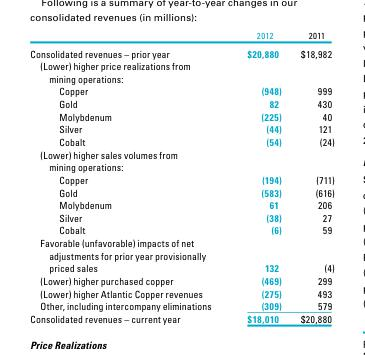table: (29, 28, 333, 323)
table column: (29, 28, 228, 323), (228, 28, 290, 323), (290, 28, 333, 323)
table column header: (29, 28, 333, 43)
table projected row header: (29, 235, 333, 261), (29, 59, 333, 84), (29, 147, 333, 172)
table row: (29, 235, 333, 261), (29, 59, 333, 84), (29, 147, 333, 172), (29, 43, 333, 59), (29, 28, 333, 43), (29, 84, 333, 97), (29, 109, 333, 122), (29, 134, 333, 147), (29, 172, 333, 185), (29, 185, 333, 198), (29, 210, 333, 223), (29, 273, 333, 286), (29, 286, 333, 299), (29, 97, 333, 109), (29, 122, 333, 134), (29, 198, 333, 210), (29, 223, 333, 235), (29, 261, 333, 273), (29, 299, 333, 311), (29, 311, 333, 323)
